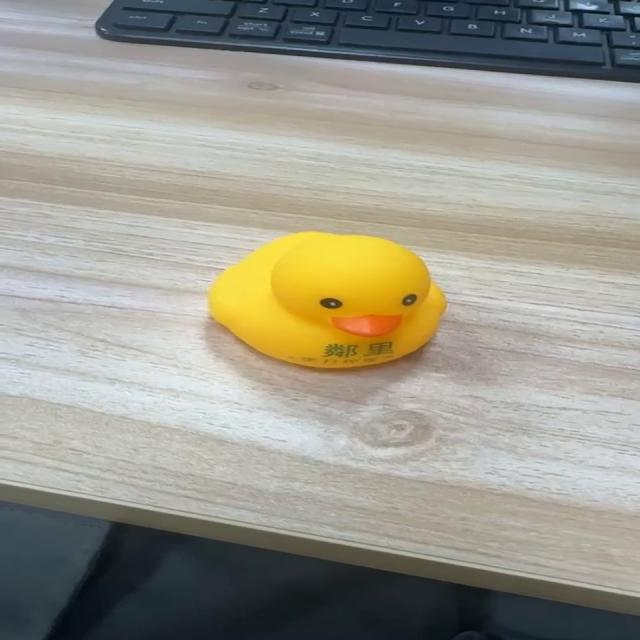yellow_duck: (206, 230, 448, 370)
